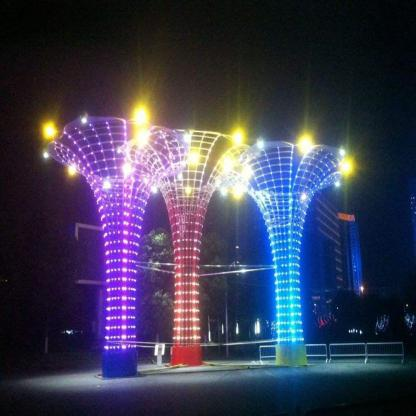other: (40, 86, 356, 202)
